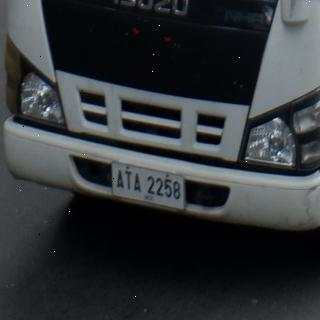license: (113, 163, 186, 210)
